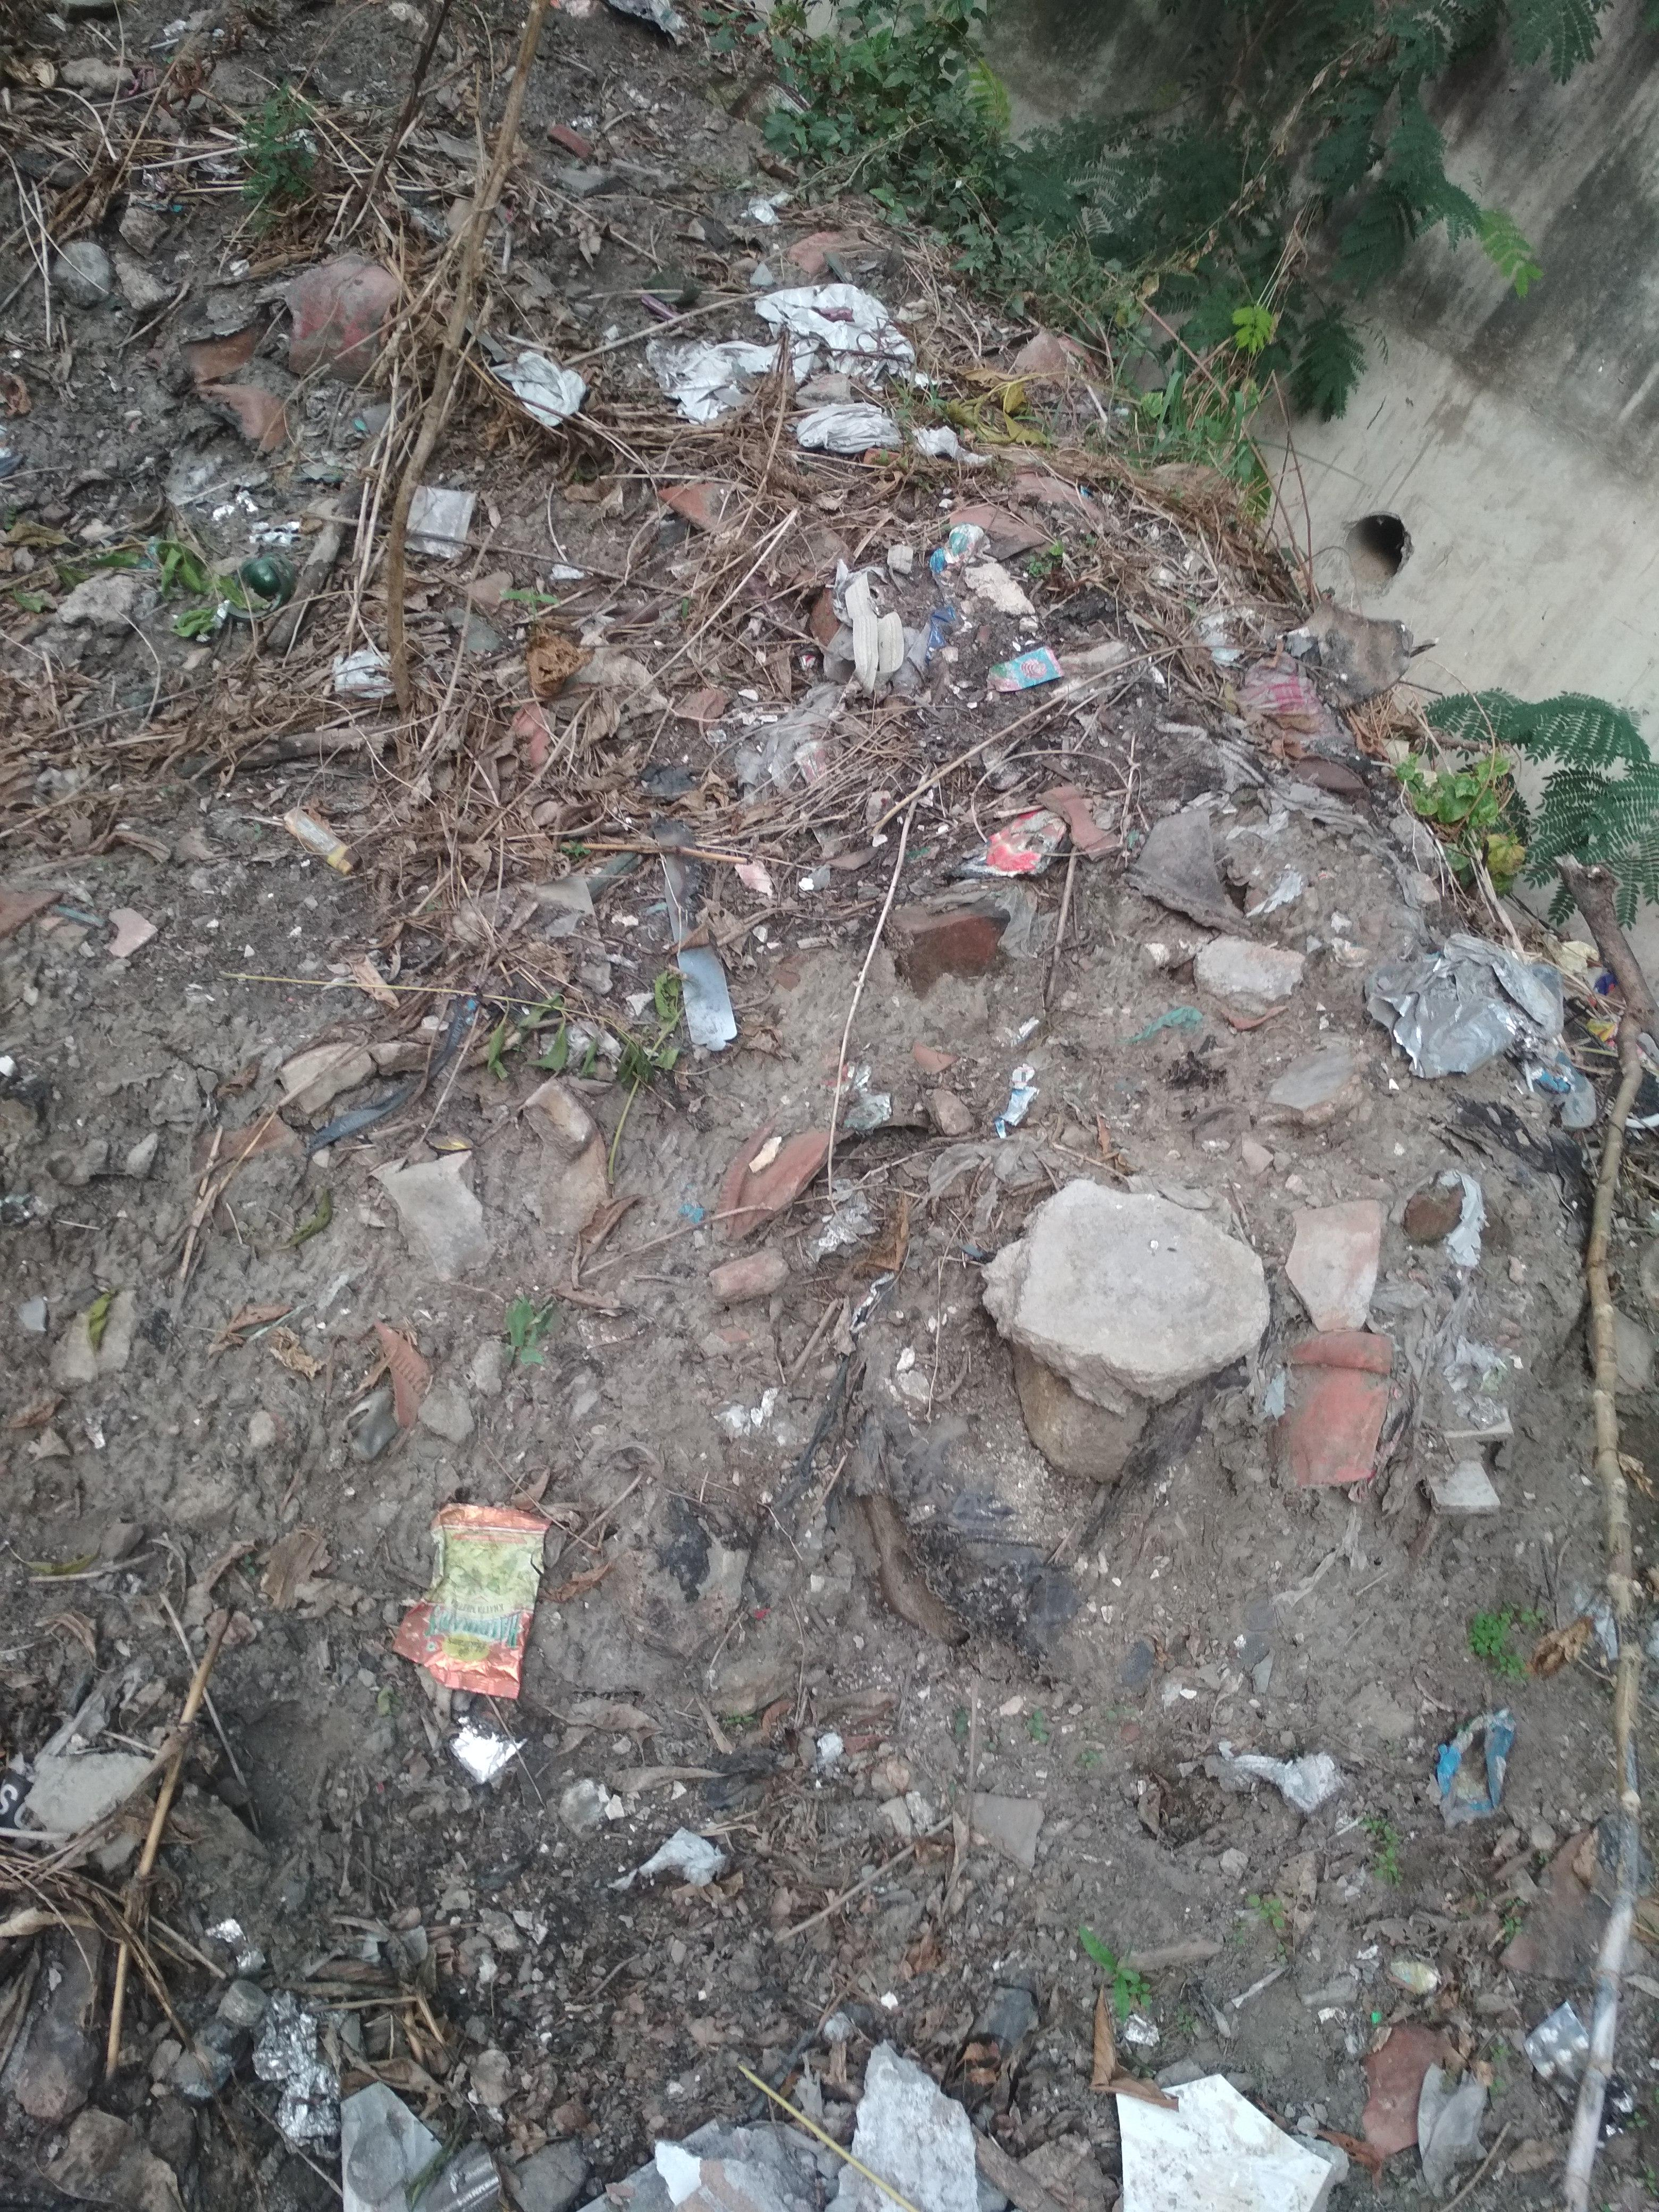organic: (303, 2019, 1384, 2212)
